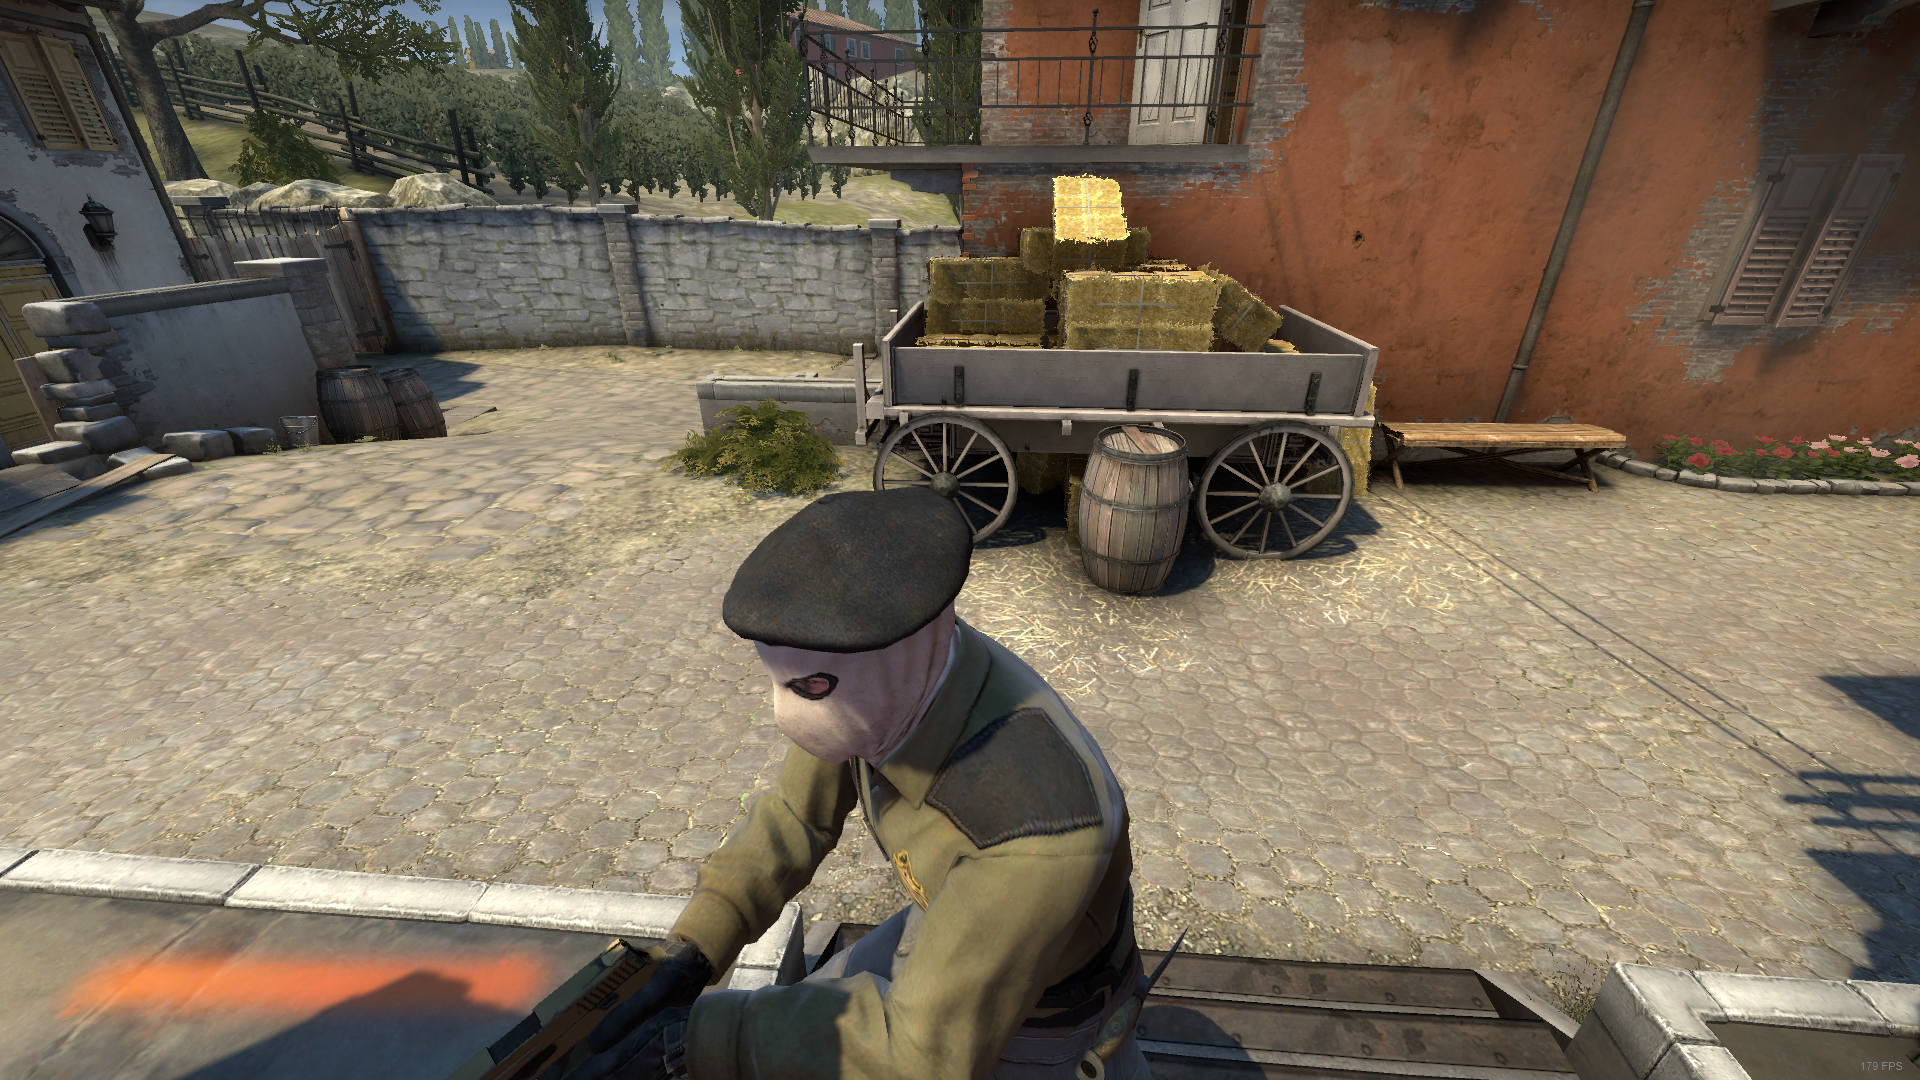t: (574, 487, 1146, 1080)
